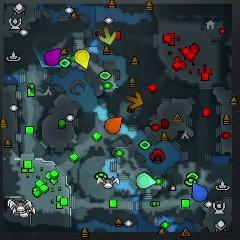p1: (192, 182, 208, 202)
p2: (137, 173, 156, 189)
p3: (44, 48, 61, 66)
p4: (75, 50, 91, 69)
p5: (105, 117, 122, 133)
x2: (100, 28, 115, 45)
x5: (127, 92, 143, 109)
